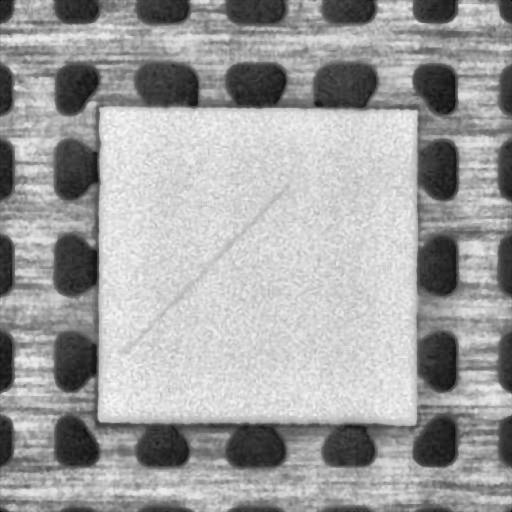DIE_CRACK: (122, 184, 286, 354)
